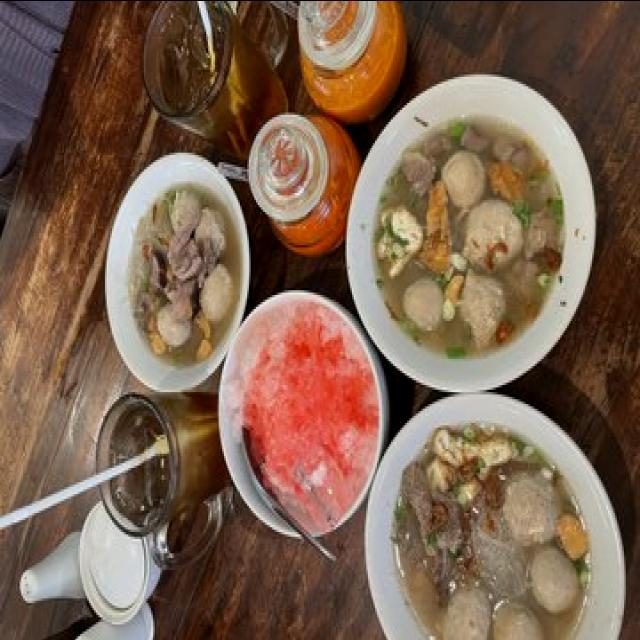bakso: (373, 114, 564, 360), (391, 424, 592, 640), (128, 190, 235, 360)
